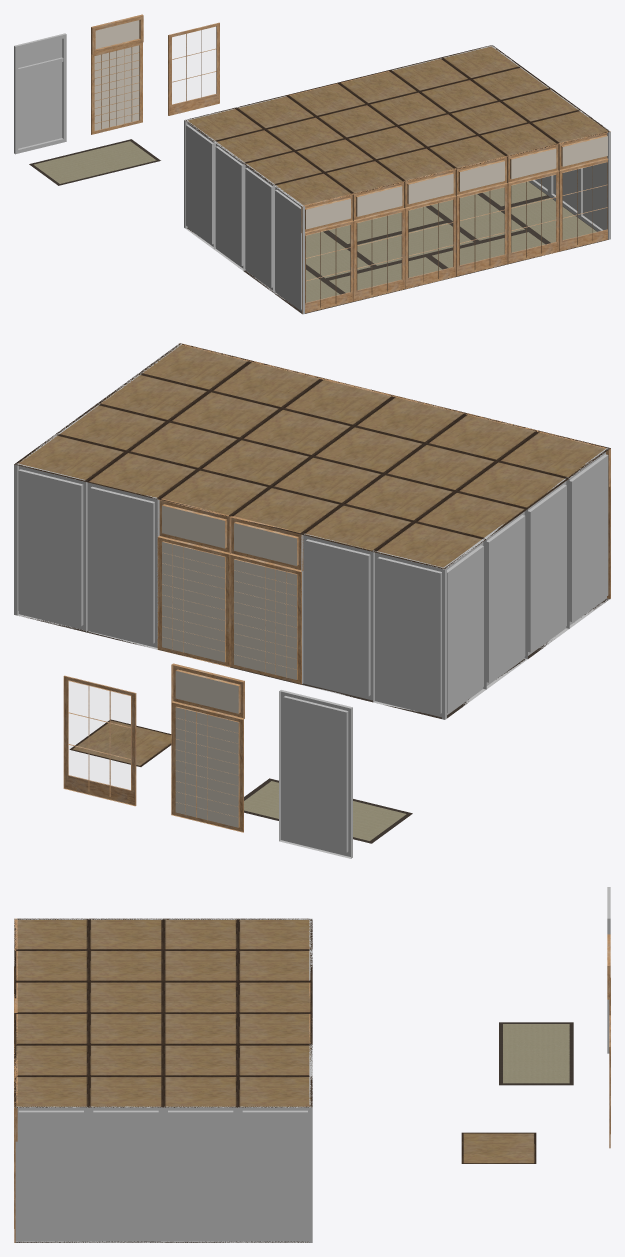
The model's file is MYNECK.fbx.
3 renders of one model, top to bottom at view 1: azimuth 30°, elevation 25°; view 2: azimuth 150°, elevation 25°; view 3: azimuth 270°, elevation 25°, orthographic. The views are drawn at different scales.
Visible parts, largest first — view 1: polySurface11 (×24), polySurface2 (×7), polySurface4 (×10), polySurface7 (×7), polySurface10 (×7), polySurface1 (×6), polySurface9 (×7), polySurface6, polySurface3 (×4), polySurface5; view 2: polySurface2 (×9), polySurface11 (×25), polySurface6 (×3), polySurface1 (×10), polySurface10 (×3), polySurface5 (×3), polySurface9 (×3), polySurface7, polySurface4; view 3: polySurface11 (×25), polySurface2 (×4), polySurface1 (×5), polySurface4, polySurface3.
Boxes of the visible parts, box(x1,y1,x2,y2) form: polySurface11 (×24): box(188, 46, 608, 205); polySurface2 (×7): box(18, 39, 606, 309); polySurface4 (×10): box(34, 141, 596, 302); polySurface7 (×7): box(168, 22, 607, 313); polySurface10 (×7): box(95, 20, 607, 229); polySurface1 (×6): box(14, 33, 610, 314); polySurface9 (×7): box(91, 14, 610, 233); polySurface6: box(94, 45, 139, 130); polySurface3 (×4): box(29, 139, 558, 301); polySurface5: box(91, 42, 142, 134); polySurface2 (×9): box(18, 455, 608, 852); polySurface11 (×25): box(18, 344, 605, 765); polySurface6 (×3): box(162, 542, 296, 827); polySurface1 (×10): box(14, 434, 609, 858); polySurface10 (×3): box(162, 505, 296, 713); polySurface5 (×3): box(157, 537, 301, 832); polySurface9 (×3): box(158, 498, 303, 719); polySurface7: box(63, 675, 136, 806); polySurface4: box(244, 781, 406, 840); polySurface11 (×25): box(16, 919, 533, 1163); polySurface2 (×4): box(18, 1112, 307, 1238); polySurface1 (×5): box(14, 1076, 312, 1242); polySurface4: box(503, 1024, 569, 1083); polySurface3: box(499, 1022, 573, 1085).
Bounding box in the file's own units: 1050 × 300 × 1201.
